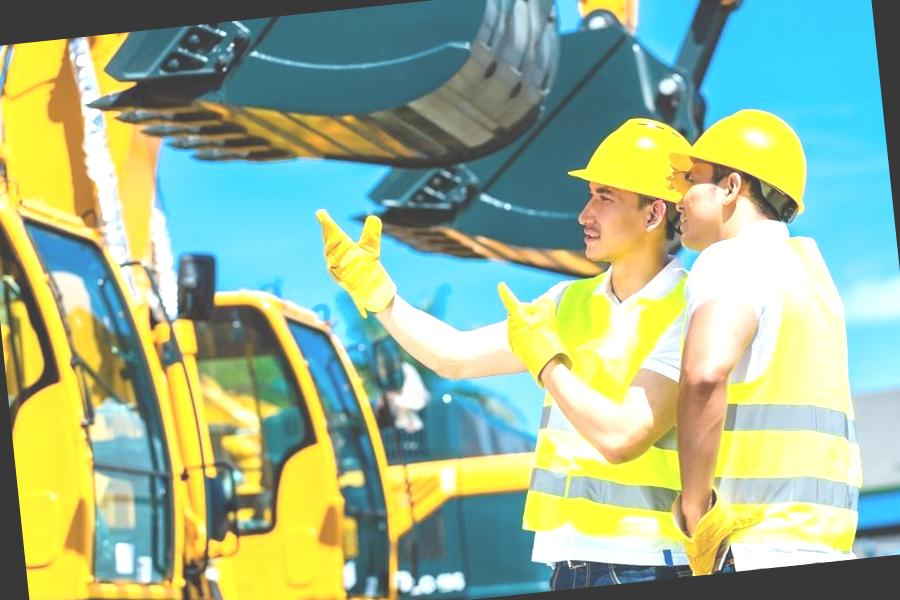helmet: (666, 103, 817, 232), (561, 115, 700, 211)
person: (480, 110, 714, 590), (662, 94, 872, 574)
